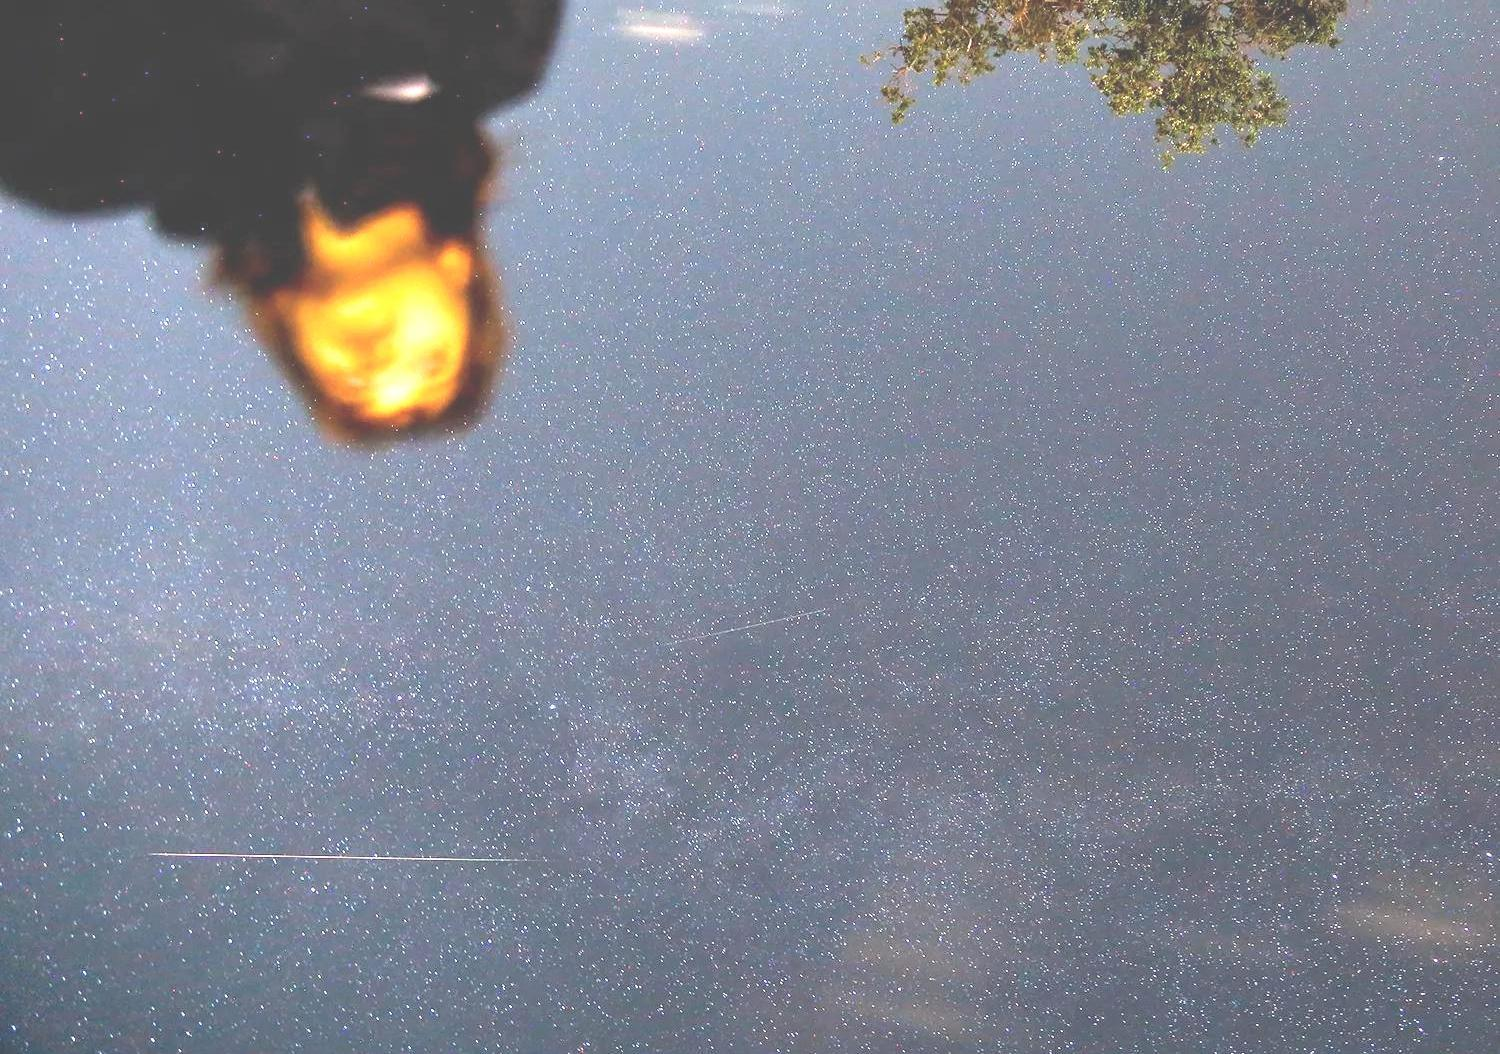meteorite: (31, 806, 533, 870), (637, 609, 910, 654)
